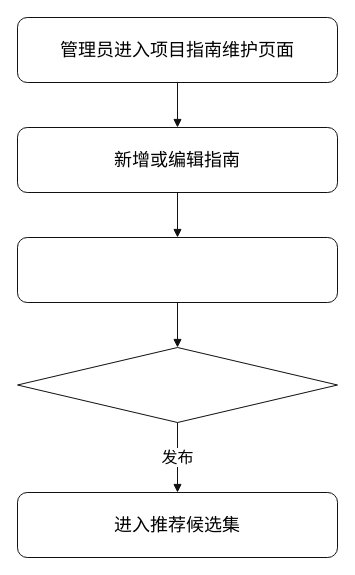
The diagram is 355 pixels wide and 575 high, and some of its shapes have lost their labels. The box of each missing label's shape, as (x1, y1, x2, y2) in pixels:
保存草稿或发布: (16, 346, 338, 422)
校验规则配置: (16, 236, 338, 302)
